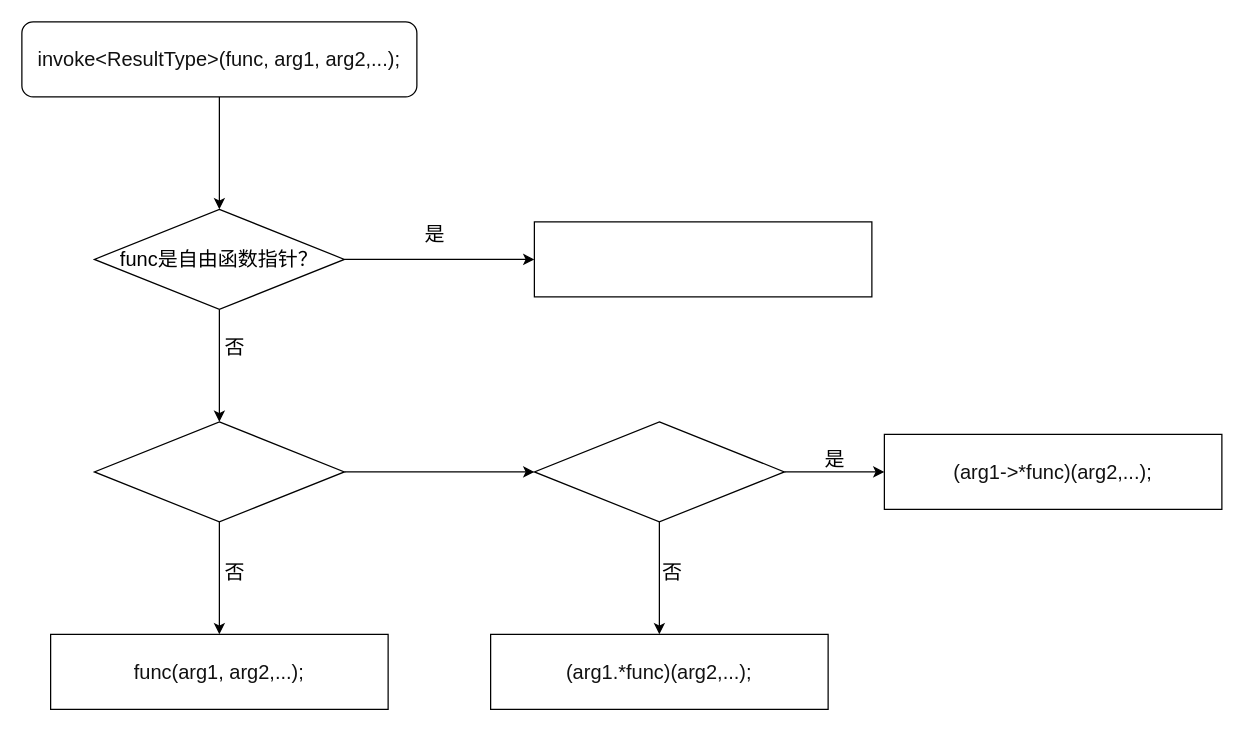
This 1244x731 diagram has some shape labels left out. The shapes that lost their labels are listed below. From the top down, each one's centre as x and y in pixels, then its label:
At (702,259): "(*func)(arg1, arg2,...);".
At (218,471): "func是成员函数指针？".
At (658,471): "arg1是指针类型？".
